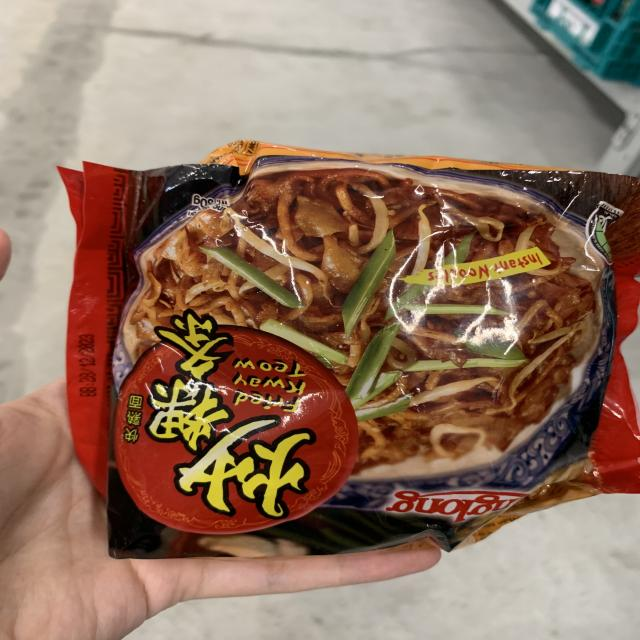object_name: (102, 161, 640, 526)
